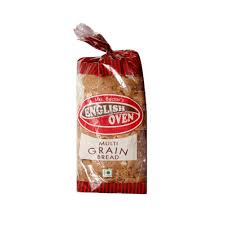bread: (74, 21, 152, 202)
